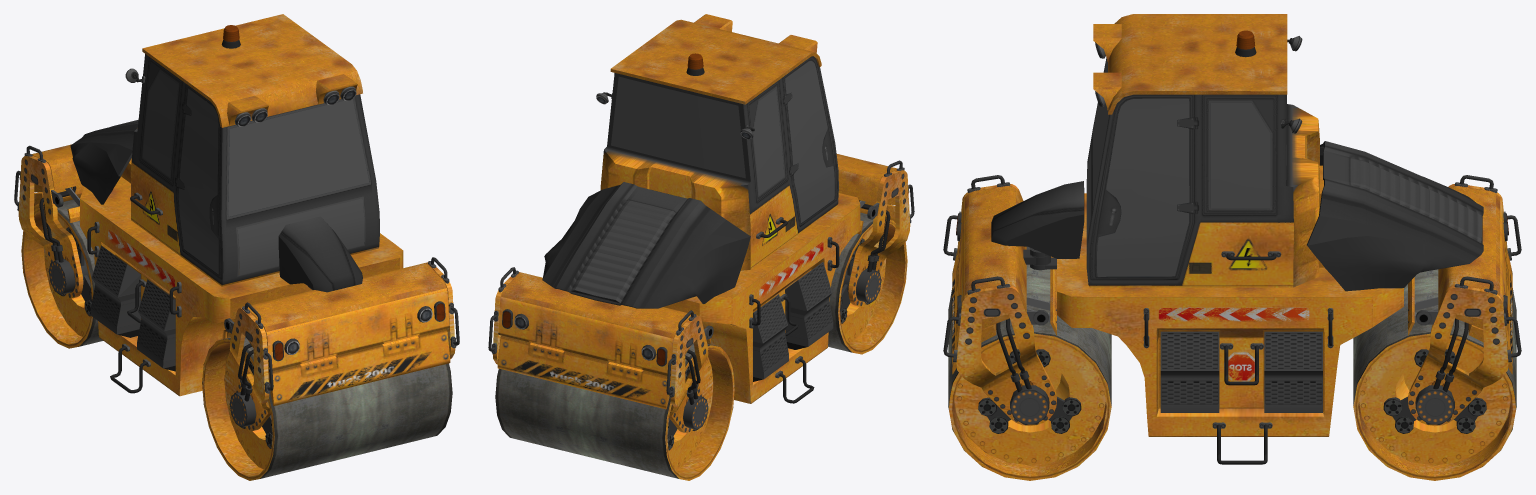
The model's file is Road_roller_truck.glb.
The picture shows the model from 3 angles, left to right: view 1: azimuth 30°, elevation 25°; view 2: azimuth 150°, elevation 25°; view 3: azimuth 270°, elevation 25°; orthographic projection. The views are drawn at different scales.
Visible parts, largest first — view 1: Body_1_Textures 1_0, Body_1_Glass_0, Body_2_Textures 2_0, Wheel_F_Textures 2_0, Body_3_Textures 2_0, Wheel_B_Textures 2_0; view 2: Body_1_Textures 1_0, Body_3_Textures 2_0, Body_1_Glass_0, Wheel_B_Textures 2_0, Body_2_Textures 2_0, Wheel_F_Textures 2_0, Body_1_Textures 4_0; view 3: Body_1_Textures 1_0, Body_1_Glass_0, Wheel_B_Textures 2_0, Wheel_F_Textures 2_0, Body_2_Textures 2_0, Body_3_Textures 2_0.
Part boxes in pixels (x1=…): Body_1_Textures 1_0: x1=70, y1=14, x2=403, y2=396; Body_1_Glass_0: x1=143, y1=71, x2=368, y2=275; Body_2_Textures 2_0: x1=224, y1=257, x2=459, y2=430; Wheel_F_Textures 2_0: x1=202, y1=337, x2=452, y2=480; Body_3_Textures 2_0: x1=14, y1=144, x2=89, y2=298; Wheel_B_Textures 2_0: x1=21, y1=198, x2=103, y2=348; Body_1_Textures 1_0: x1=542, y1=14, x2=860, y2=403; Body_3_Textures 2_0: x1=488, y1=267, x2=713, y2=432; Body_1_Glass_0: x1=611, y1=61, x2=834, y2=222; Wheel_B_Textures 2_0: x1=495, y1=343, x2=734, y2=480; Body_2_Textures 2_0: x1=836, y1=154, x2=914, y2=306; Wheel_F_Textures 2_0: x1=828, y1=212, x2=907, y2=354; Body_1_Textures 4_0: x1=607, y1=73, x2=750, y2=181; Body_1_Textures 1_0: x1=991, y1=14, x2=1483, y2=464; Body_1_Glass_0: x1=1086, y1=59, x2=1286, y2=276; Wheel_B_Textures 2_0: x1=1353, y1=269, x2=1516, y2=480; Wheel_F_Textures 2_0: x1=948, y1=264, x2=1111, y2=480; Body_2_Textures 2_0: x1=943, y1=175, x2=1056, y2=425; Body_3_Textures 2_0: x1=1408, y1=175, x2=1521, y2=426.
Bounding box in the file's own units: 0.5405 × 0.8117 × 1.07.
Materials: 5 (4 with a texture image).
